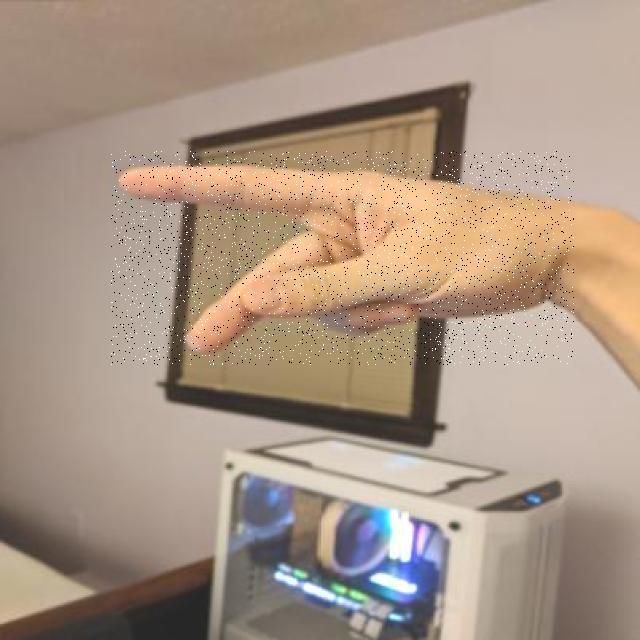P: (111, 151, 574, 365)
